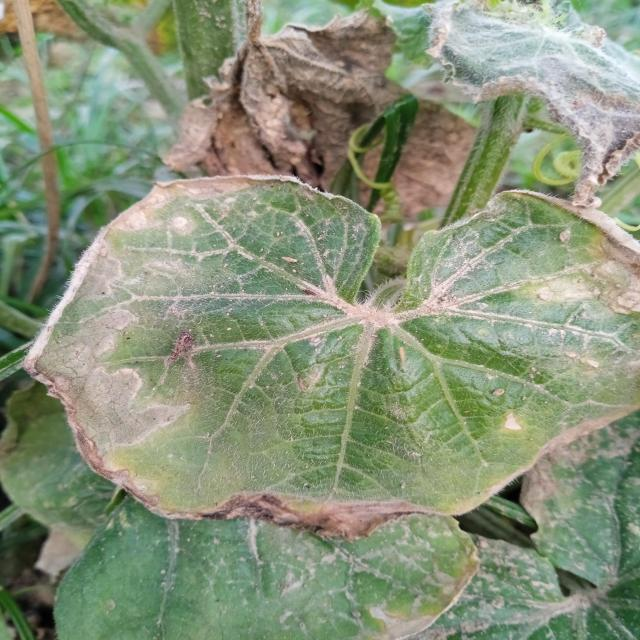cucumber_gummy: (17, 172, 640, 543), (24, 510, 483, 640), (152, 2, 416, 207), (420, 0, 639, 207), (514, 391, 640, 592), (460, 531, 640, 639)
